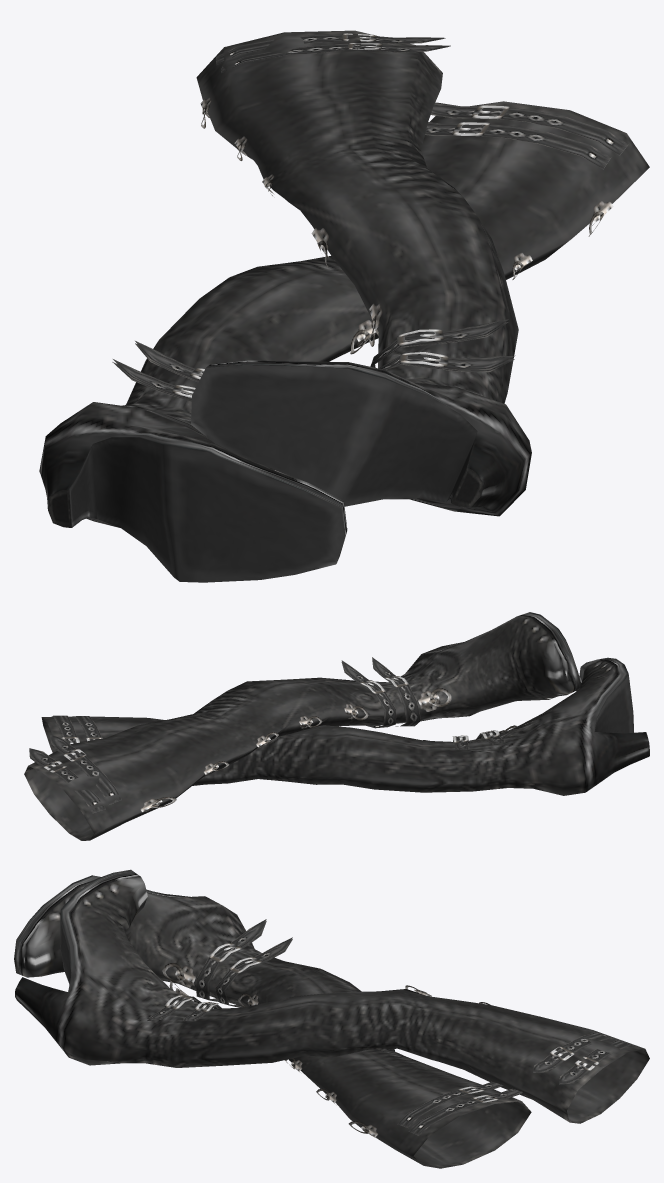
Rendered from Squaretoe_Thigh_Ground.fbx.
The picture shows the model from 3 angles, top to bottom: view 1: azimuth 30°, elevation 25°; view 2: azimuth 150°, elevation 25°; view 3: azimuth 270°, elevation 25°; orthographic projection. The views are drawn at different scales.
Visible parts, largest first — view 1: Squaretoe_Thigh; view 2: Squaretoe_Thigh; view 3: Squaretoe_Thigh.
Part boxes in pixels (box(x1,y1,x2,y2)): Squaretoe_Thigh: box(39, 30, 649, 582); Squaretoe_Thigh: box(24, 612, 649, 840); Squaretoe_Thigh: box(14, 869, 649, 1168).
Size of the model in its own units: 0.3582 by 0.095 by 0.3802.
